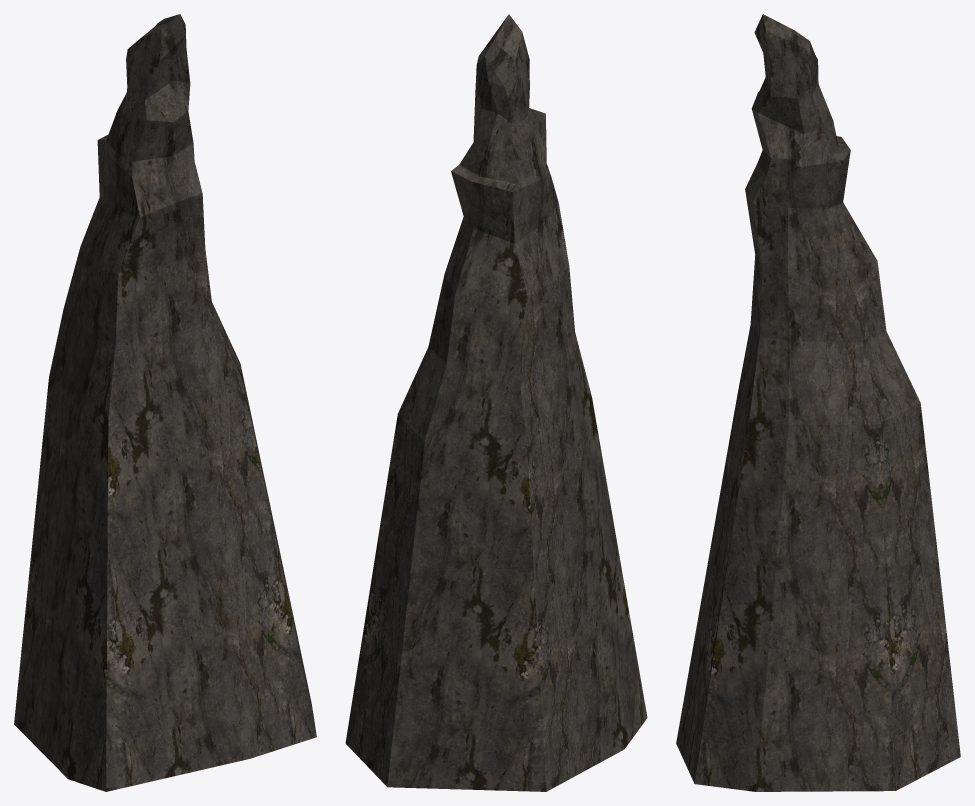
Rendered from rock2.glb.
3 views of the same model, side by side, from view 1: azimuth 30°, elevation 25°; view 2: azimuth 150°, elevation 25°; view 3: azimuth 270°, elevation 25° (orthographic). The views are drawn at different scales.
Parts seen in each view (by area): view 1: rock02; view 2: rock02; view 3: rock02.
Part boxes in pixels (bbox=[...]): rock02: bbox=[14, 14, 316, 791]; rock02: bbox=[345, 14, 647, 791]; rock02: bbox=[676, 14, 960, 791].
Size of the model in its own units: 141 by 407 by 144.
Materials: 1 (1 with a texture image).
